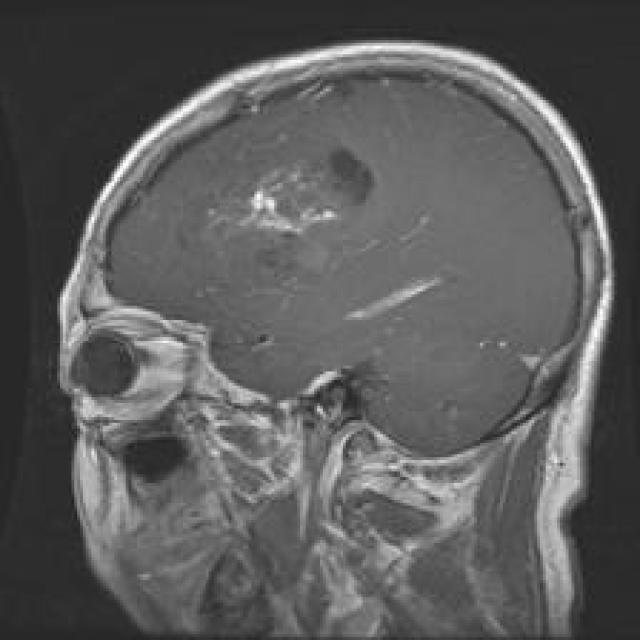glioma_tumor: (148, 138, 412, 276)
